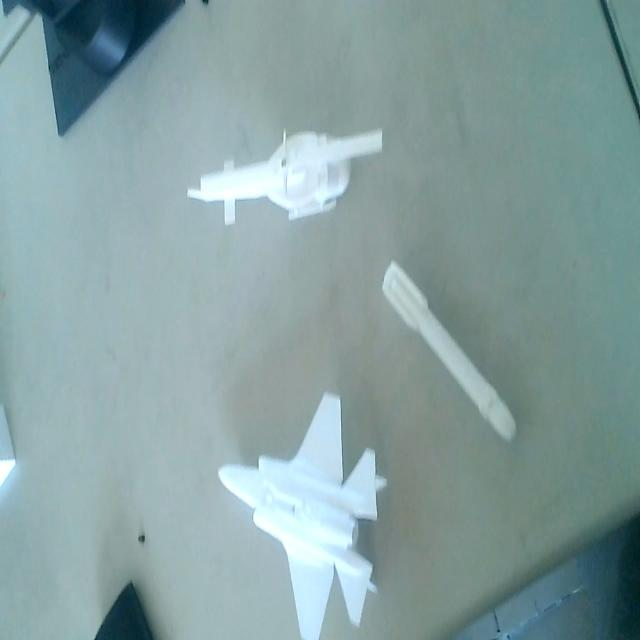Helicopter: (180, 128, 386, 240)
Jet: (211, 390, 382, 640)
Rocket: (378, 248, 518, 445)
